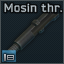Mosin Custom thread adapter: (0, 0, 64, 64)
